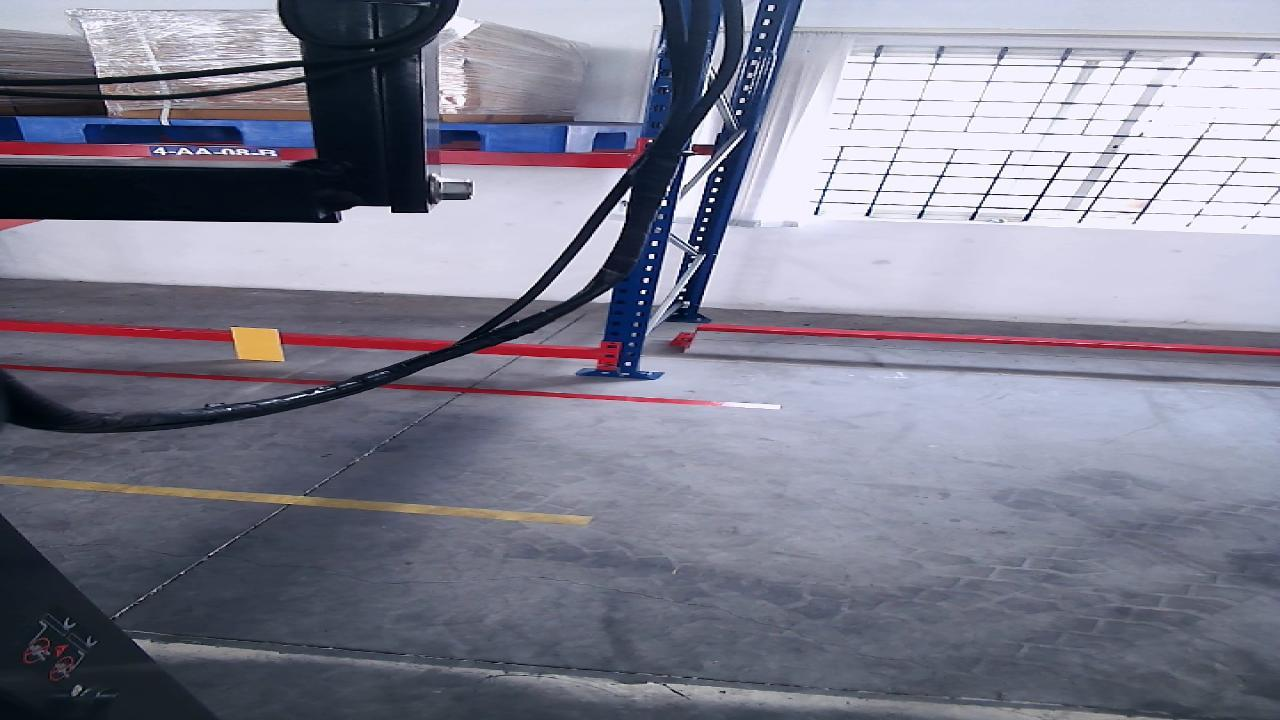h_rack: (0, 323, 597, 359), (3, 143, 630, 167)
orange_strip: (230, 327, 280, 361)
red_line: (0, 364, 778, 409)
small_pallet: (19, 118, 565, 151)
yellow_line: (0, 475, 593, 524)
